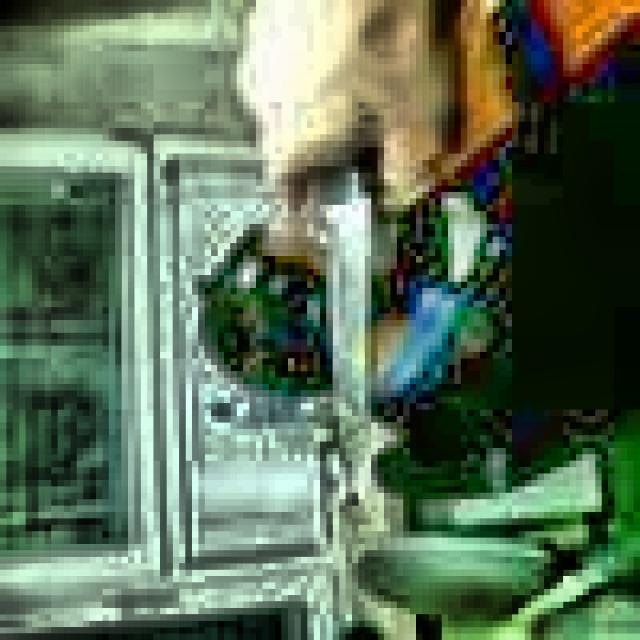knife: (321, 166, 382, 505)
